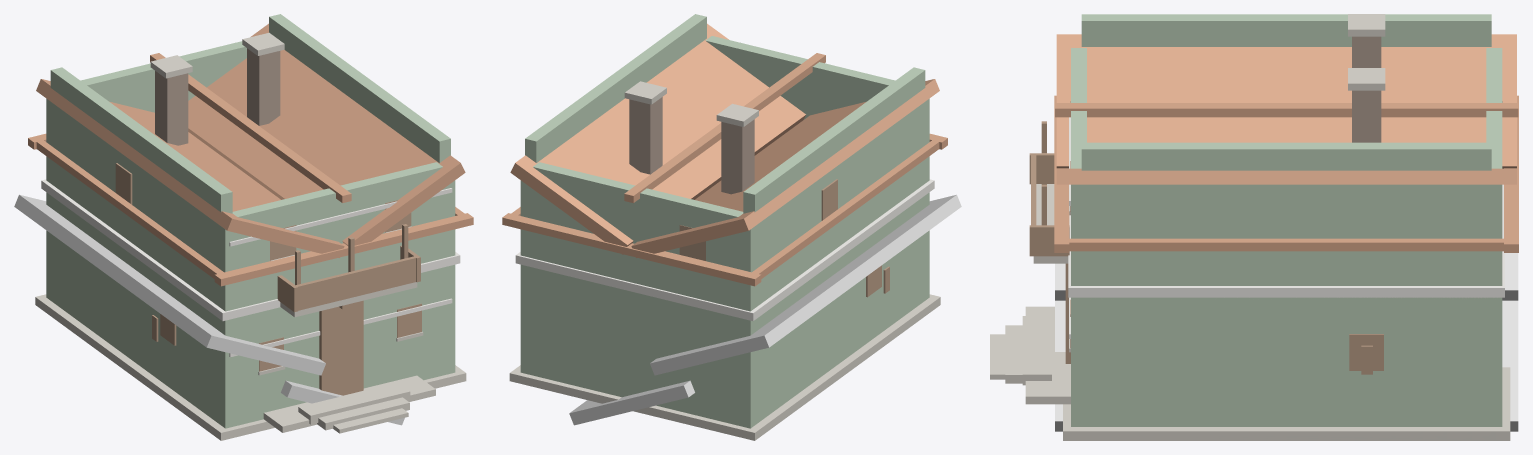
Rendered from cottage_exterior.glb.
The picture shows the model from 3 angles, left to right: view 1: azimuth 30°, elevation 25°; view 2: azimuth 150°, elevation 25°; view 3: azimuth 270°, elevation 25°; orthographic projection. The views are drawn at different scales.
Visible parts, largest first — view 1: Cottage_Main, Cottage_Windows; view 2: Cottage_Main, Cottage_Windows; view 3: Cottage_Main, Cottage_Windows.
Part boxes in pixels (x1=…): Cottage_Main: x1=14, y1=14, x2=473, y2=440; Cottage_Windows: x1=115, y1=163, x2=421, y2=371; Cottage_Main: x1=502, y1=14, x2=961, y2=440; Cottage_Windows: x1=679, y1=179, x2=889, y2=297; Cottage_Main: x1=990, y1=14, x2=1518, y2=440; Cottage_Windows: x1=1070, y1=101, x2=1502, y2=374.
Size of the model in its own units: 7.04 by 7.26 by 9.93.
